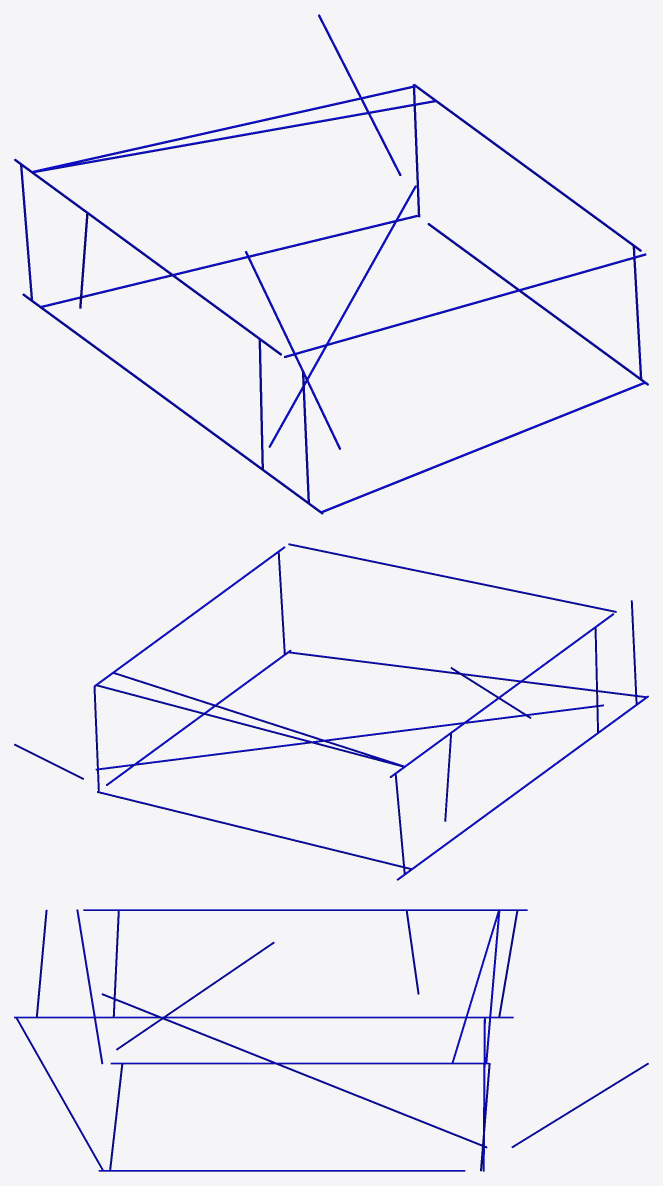
The model's file is corrected_3d_strokes.glb.
3 views of the same model, one above another, from view 1: azimuth 30°, elevation 25°; view 2: azimuth 150°, elevation 25°; view 3: azimuth 270°, elevation 25° (orthographic). The views are drawn at different scales.
Visible parts, largest first — view 1: world; view 2: world; view 3: world.
Part boxes in pixels (x1=…): world: x1=14, y1=14, x2=648, y2=514; world: x1=14, y1=543, x2=648, y2=880; world: x1=14, y1=909, x2=648, y2=1171.
Bounding box in the file's own units: 7.2 × 2.38 × 12.53.
